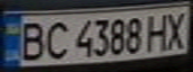3: (90, 16, 112, 57)
4: (72, 17, 93, 59)
8: (124, 15, 148, 54), (109, 16, 130, 56)
B: (12, 19, 51, 62)
C: (39, 19, 72, 61)
H: (142, 10, 172, 52)
X: (160, 8, 193, 50)
